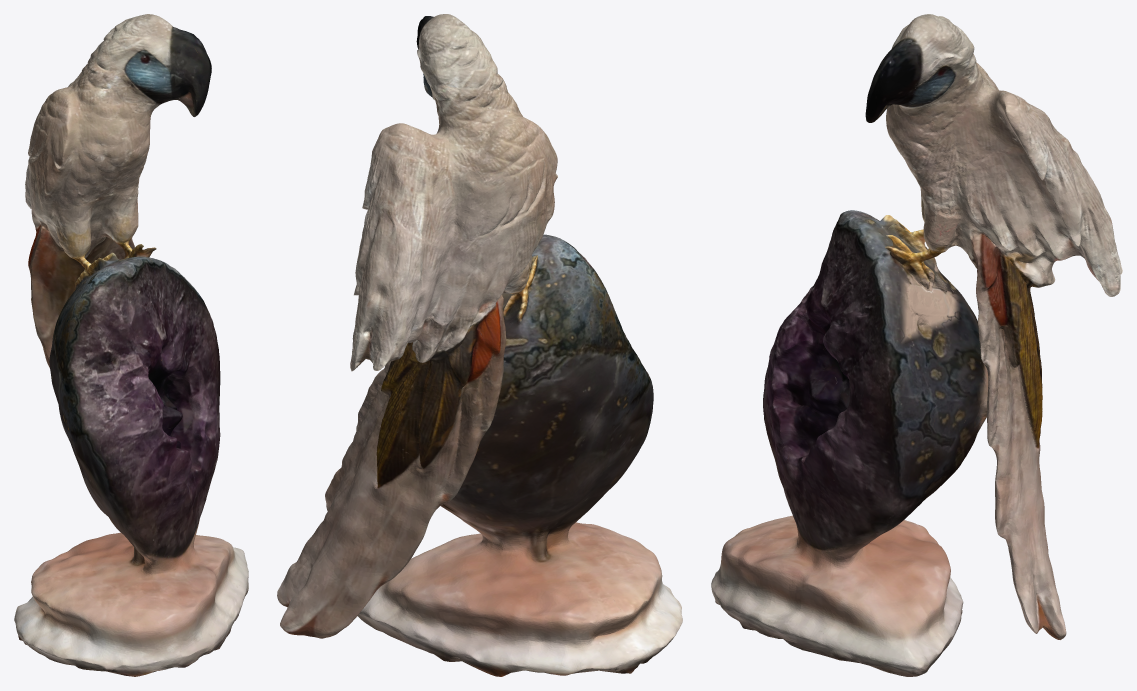
File: sculpture-4096.glb
3 renders of one model, left to right at view 1: azimuth 30°, elevation 25°; view 2: azimuth 150°, elevation 25°; view 3: azimuth 270°, elevation 25°, orthographic. The views are drawn at different scales.
Bounding box in the file's own units: 0.4444 × 0.9287 × 0.5517.
1 material, 1 textured.
